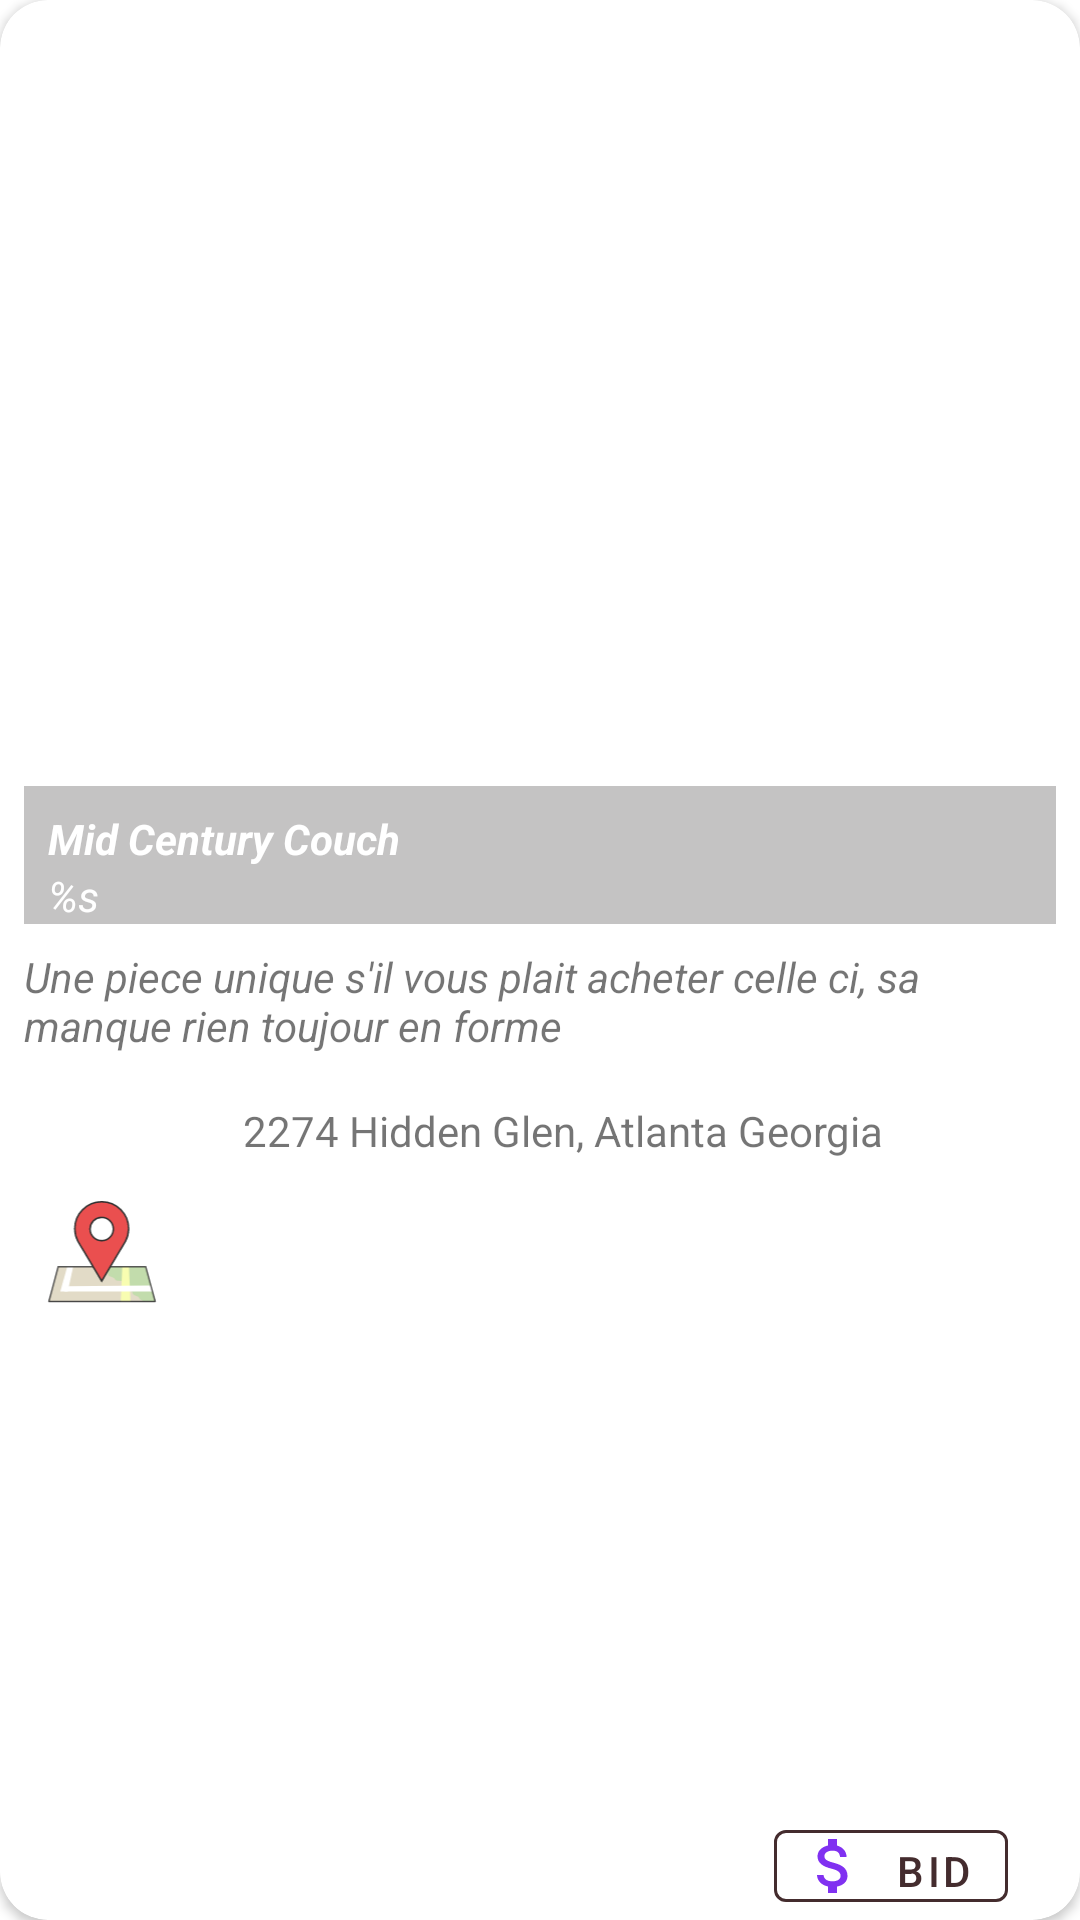

Screen size 1080x1920. Icon name, then its box in pixels as (x1, y1, x2, y2):
location: (48, 1201, 156, 1303)
